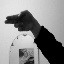h: (3, 9, 33, 33)
